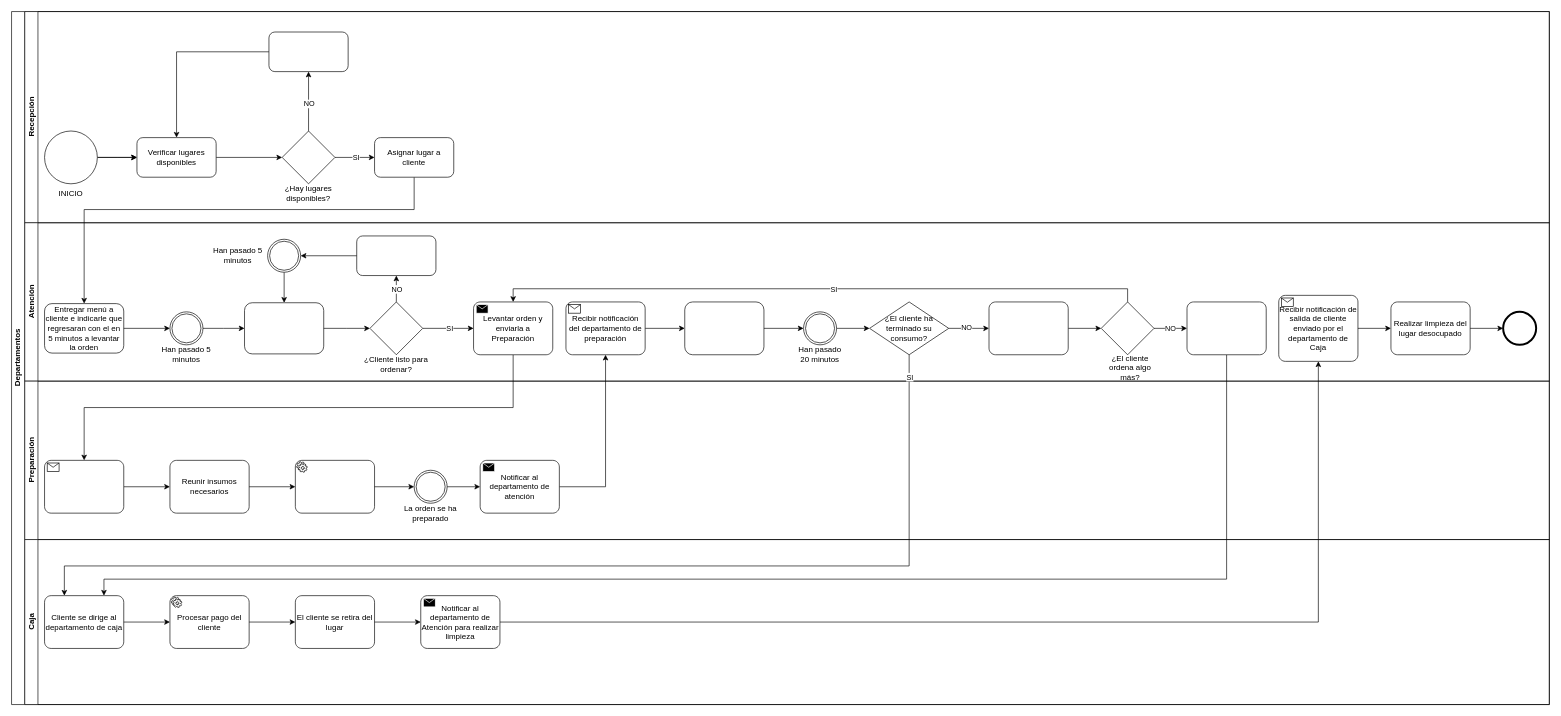
Some shapes in this 1561 by 716 pixel diagram are drawn without their labels. Here are the shapes that lost their labels. From the top down, the centre of each, then its label:
the point at 308,51: Indicar al cliente si desea esperar
the point at 396,255: Retirarse por 5 minutos más
the point at 284,328: Regresar con el cliente pasados 5 minutos y preguntar si está listo para ordenar
the point at 724,328: Llevar orden al cliente
the point at 1028,328: Volver con el cliente y preguntar si necesita algo más
the point at 1226,328: El departamento de atención se retira
the point at 1519,328: FIN
the point at 84,486: Recibir nueva orden
the point at 335,486: Preparar orden
